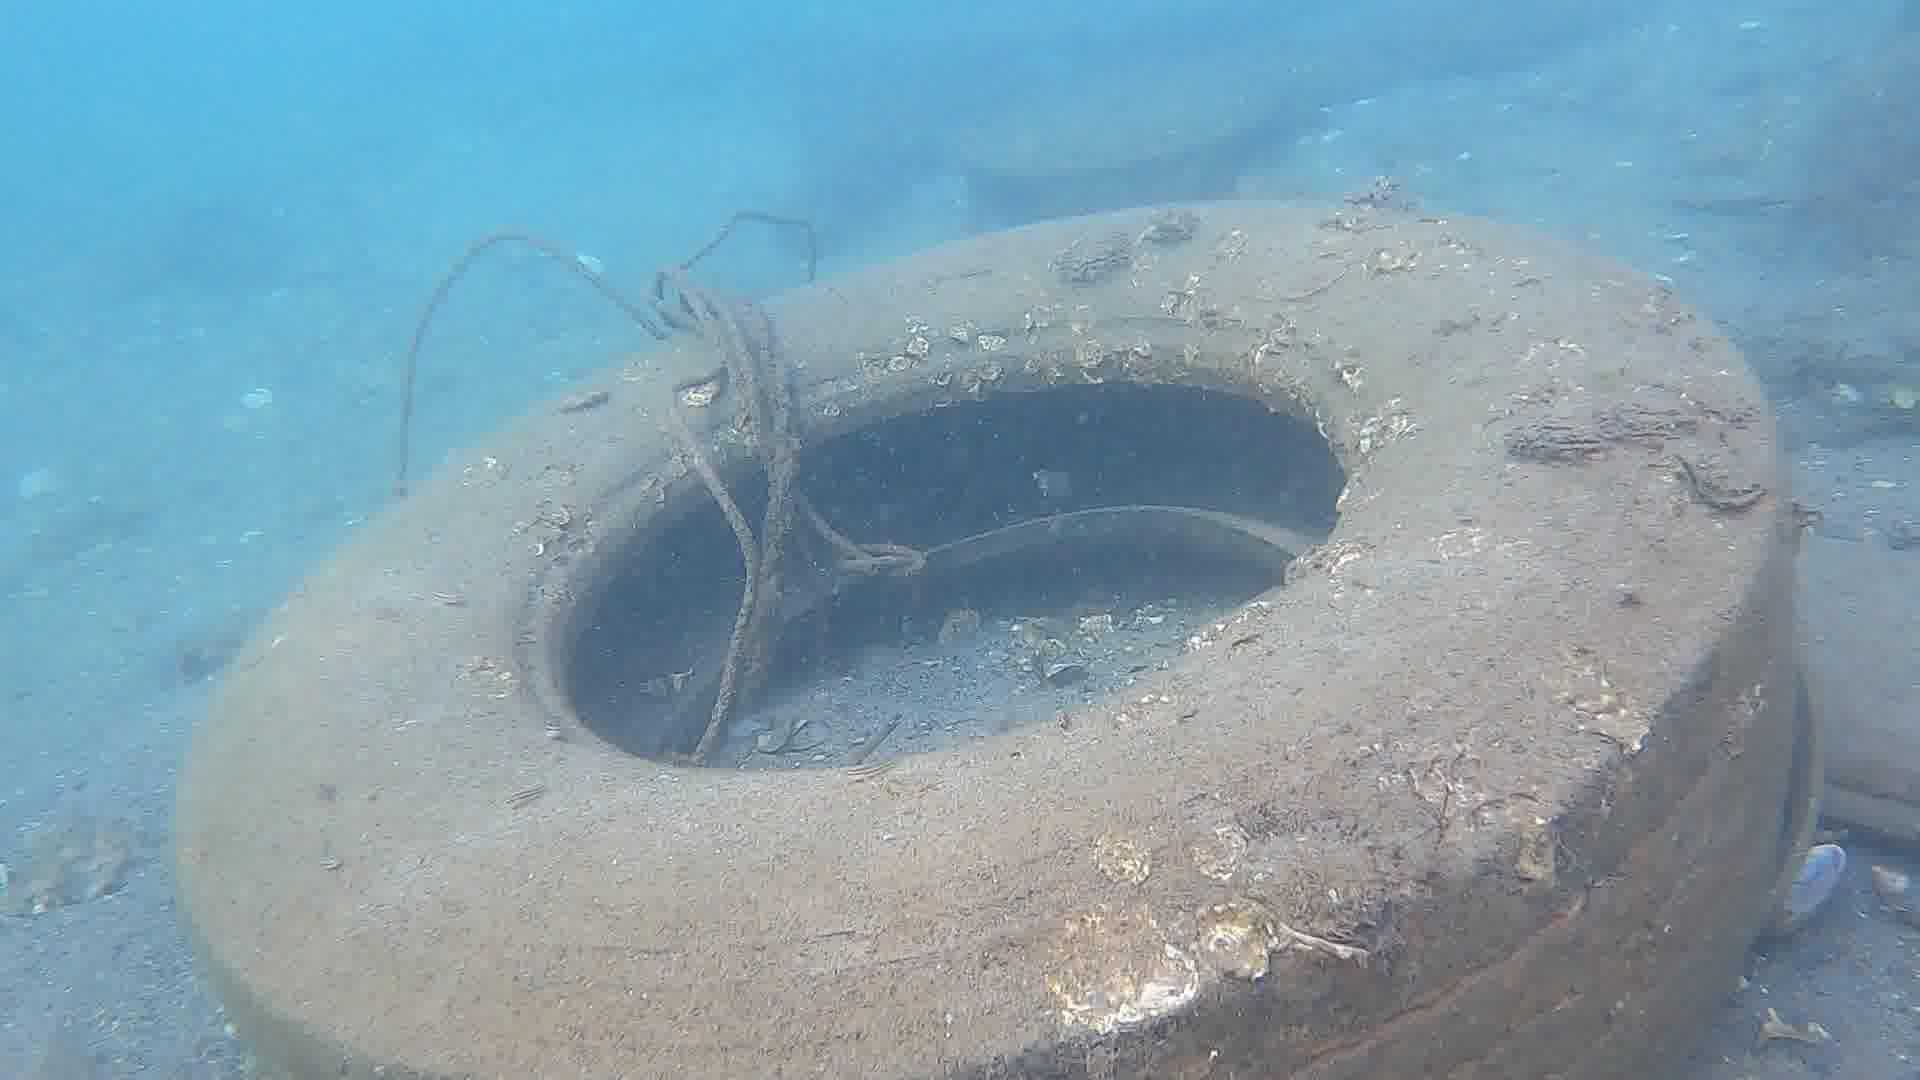bundle of ropes: (644, 208, 927, 753)
rope: (392, 224, 669, 512)
tire: (169, 196, 1800, 1080)
